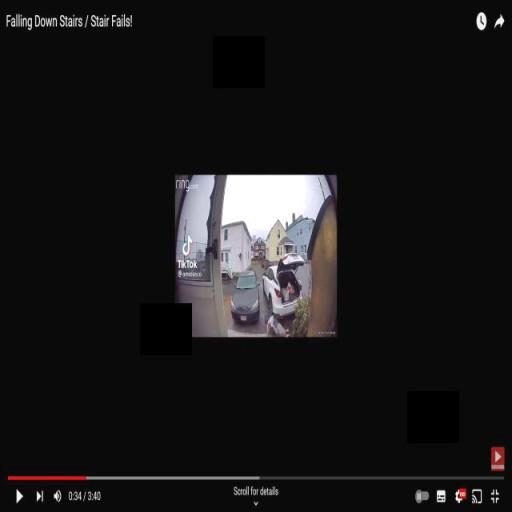Fall: (263, 310, 292, 337)
